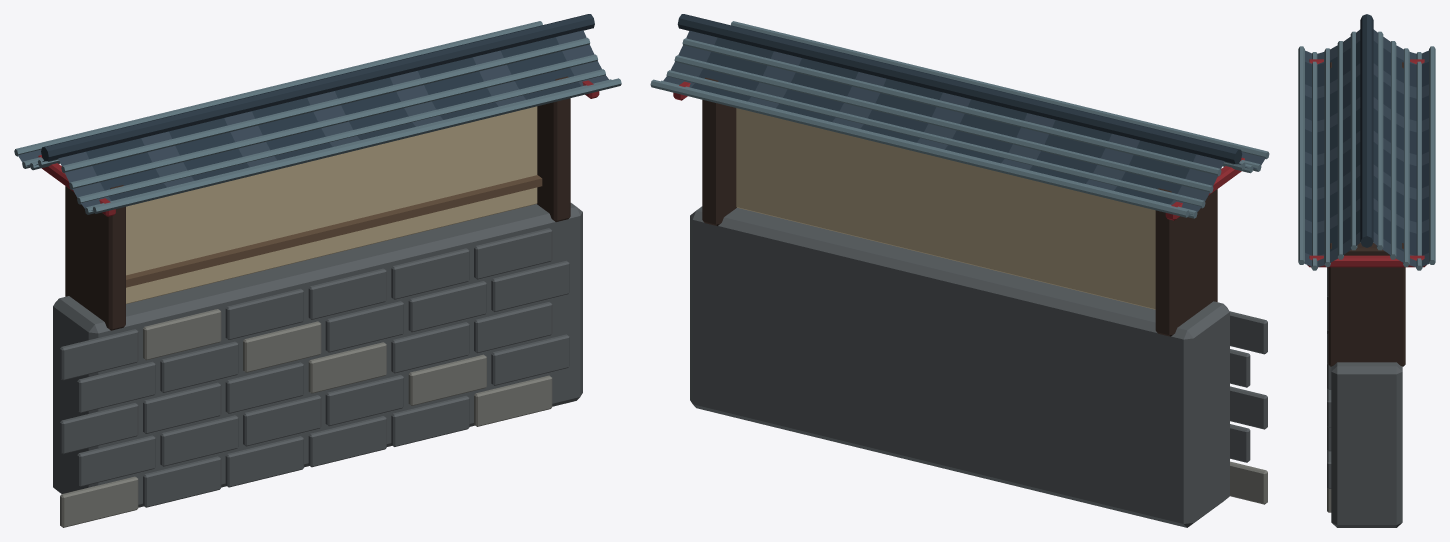
File: wall.glb
The picture shows the model from 3 angles, left to right: view 1: azimuth 30°, elevation 25°; view 2: azimuth 150°, elevation 25°; view 3: azimuth 270°, elevation 25°; orthographic projection. The views are drawn at different scales.
Visible parts, largest first — view 1: wall; view 2: wall; view 3: wall.
Boxes of the visible parts, bbox=[...] form: wall: bbox=[14, 14, 621, 527]; wall: bbox=[650, 14, 1269, 527]; wall: bbox=[1298, 14, 1435, 527].
Bounding box in the file's own units: 8.94 × 5.66 × 2.31.
